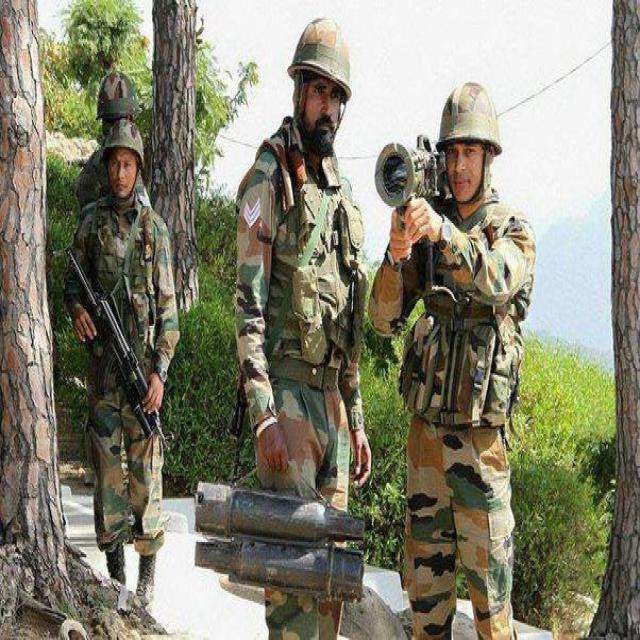bazooka: (374, 134, 451, 290)
